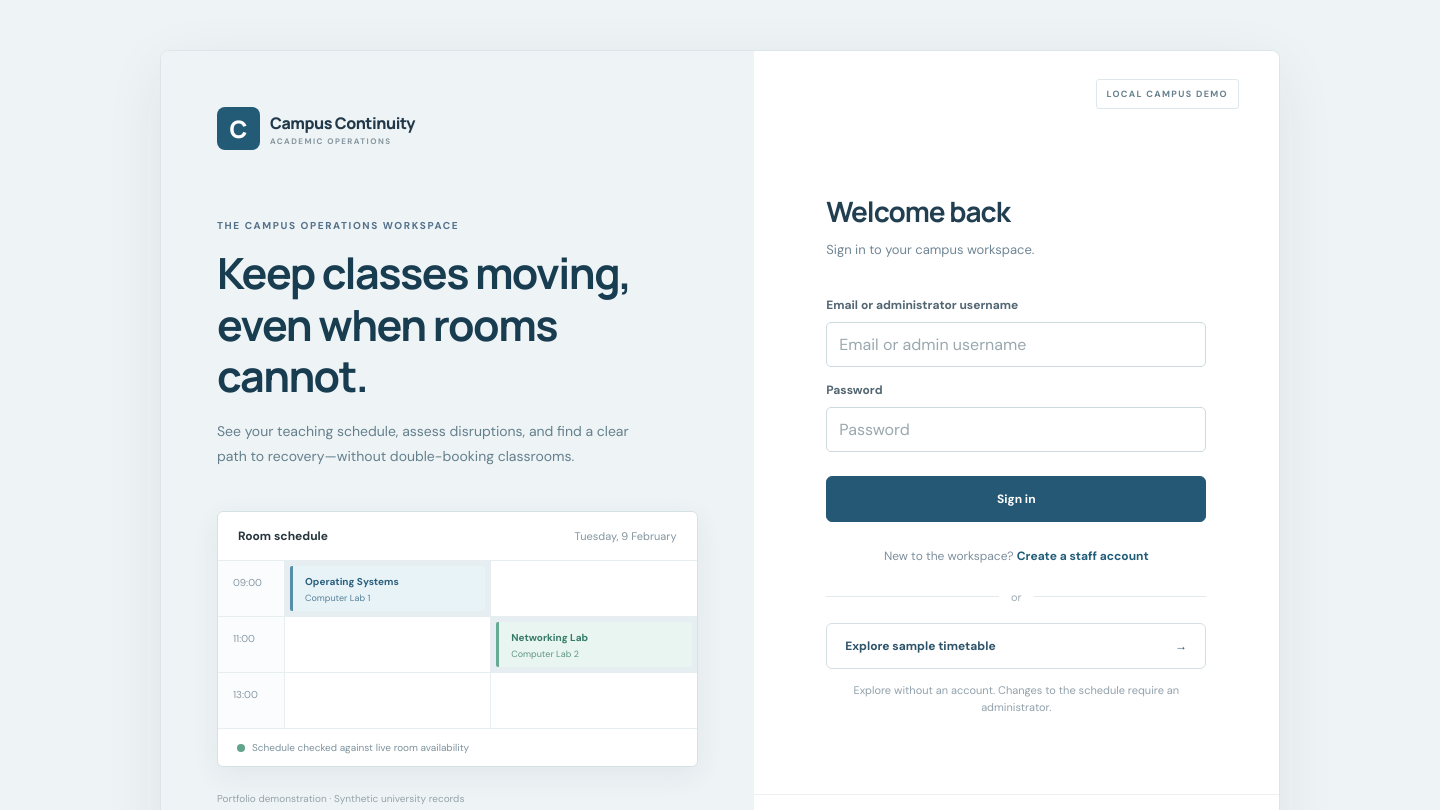
redesigned campus portal › registers a staff account and visibly limits its privileges
Click the button "Create a staff account". click: (1083, 556)
box: [1017,544,1149,568]
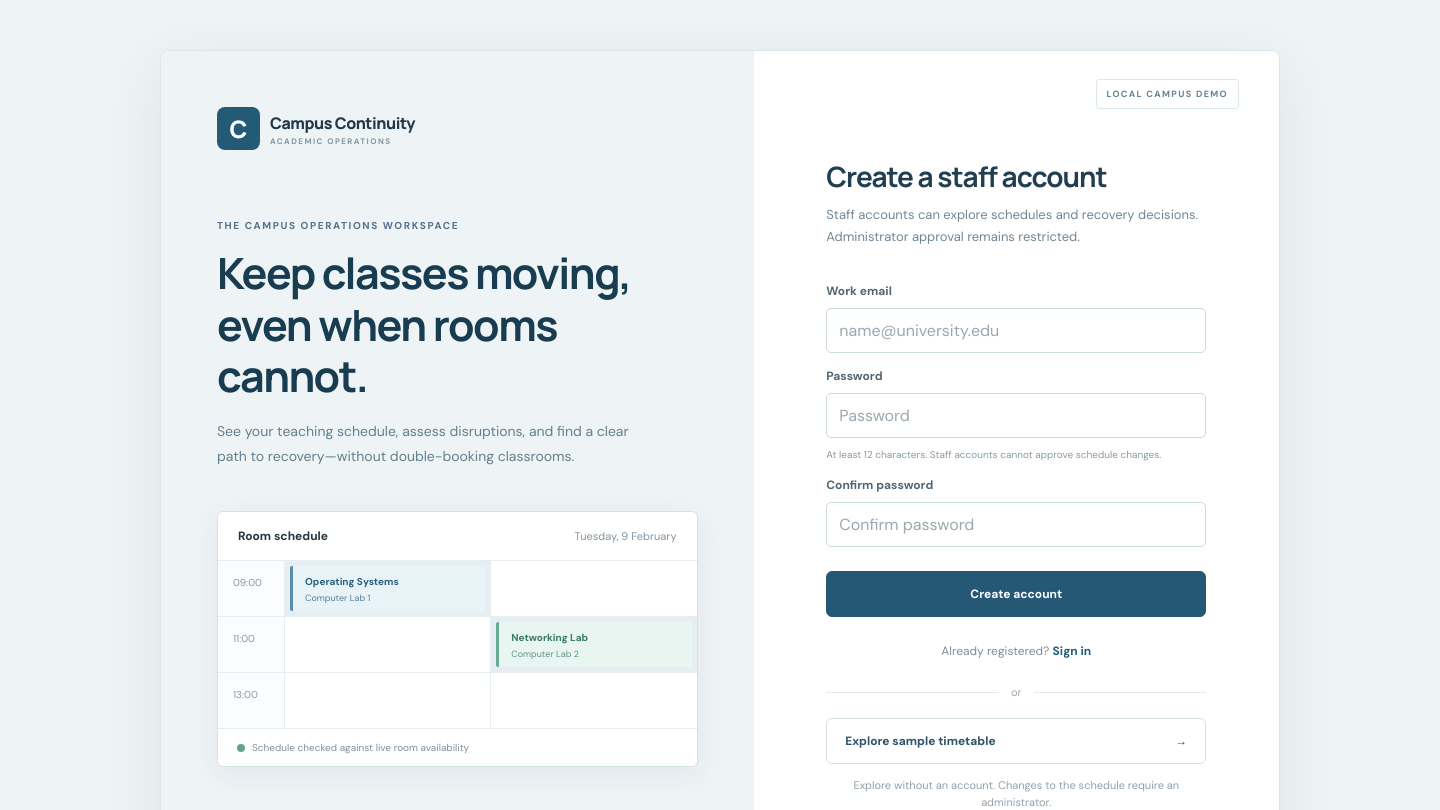
Type "student@example.edu" into the field with placeholder "name@university.edu". click: (1016, 331)
box: [826,308,1206,353]
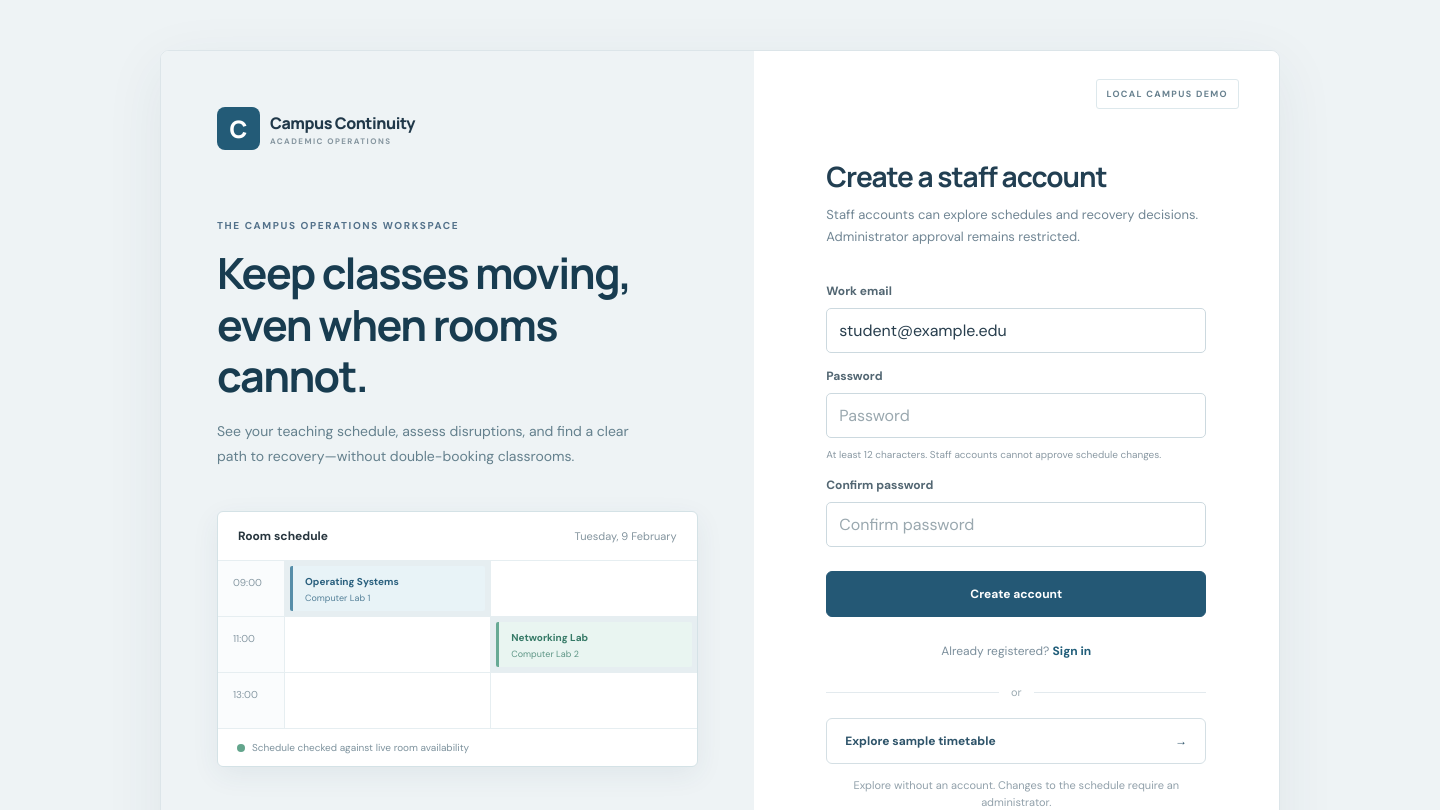
Type "demo-good-password-2027" into the password field with placeholder "Password". click: (1016, 416)
box: [826,393,1206,438]
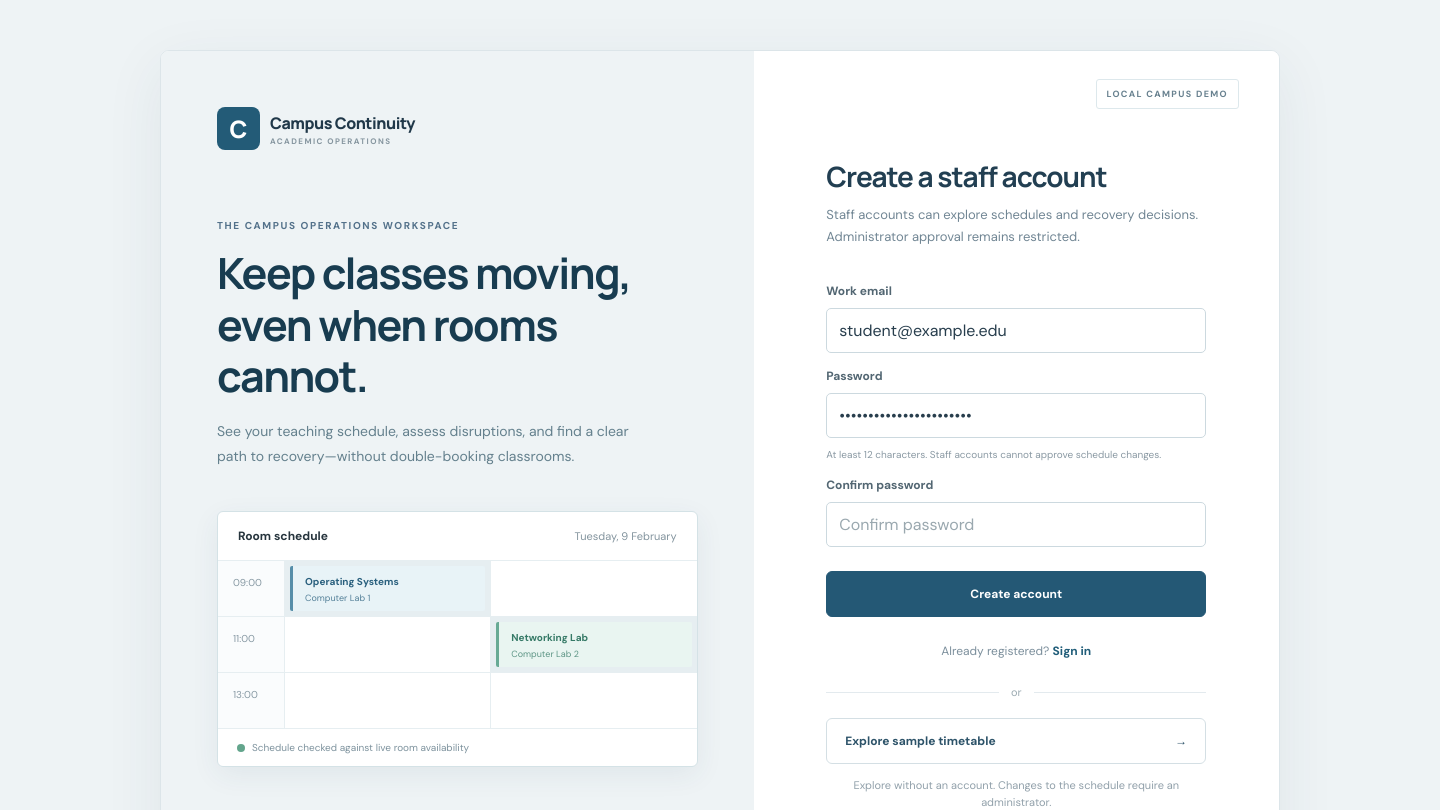
Type "demo-good-password-2027" into the password field with placeholder "Confirm password". click: (1016, 525)
box: [826,502,1206,547]
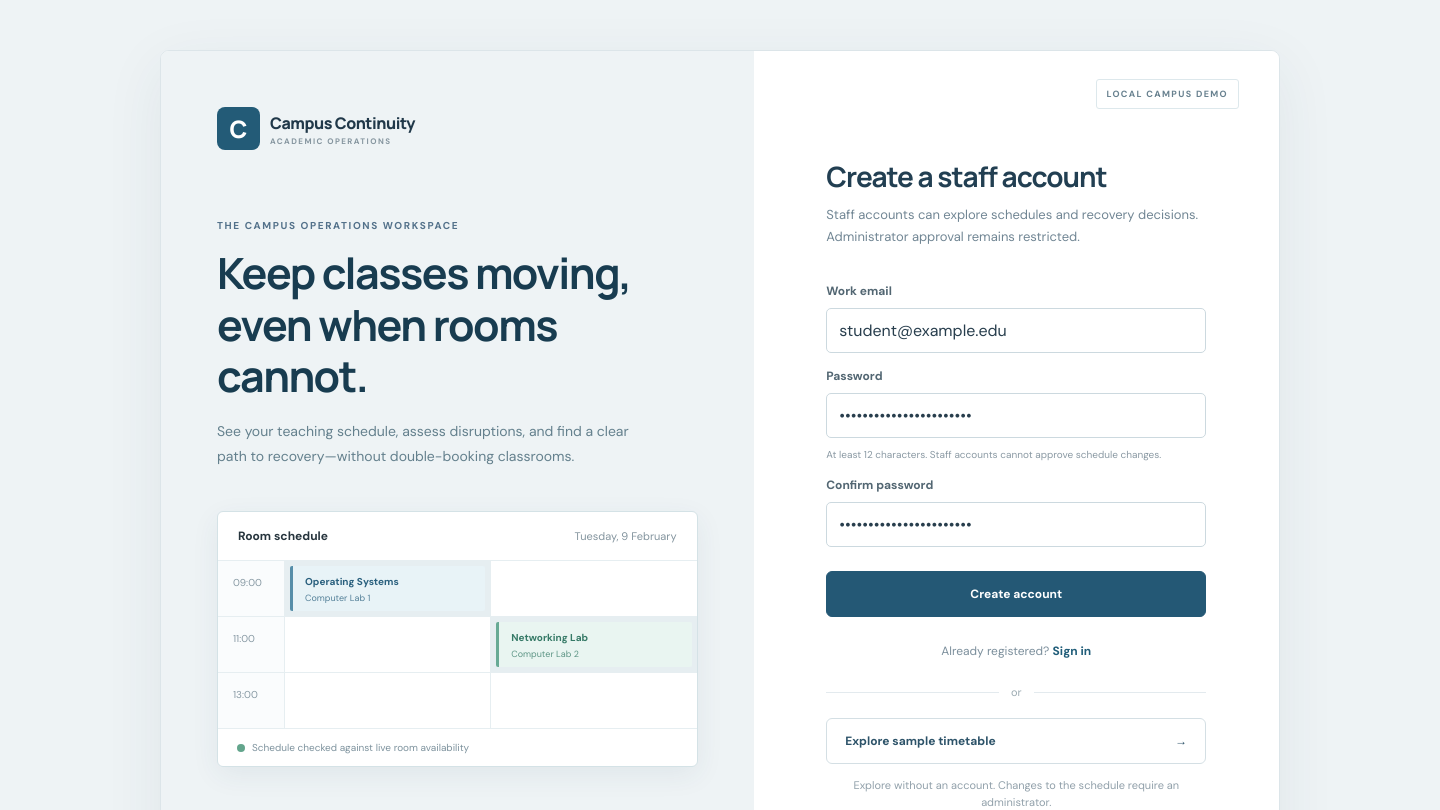
Click the button "Create account". click: (1016, 594)
box: [826,571,1206,617]
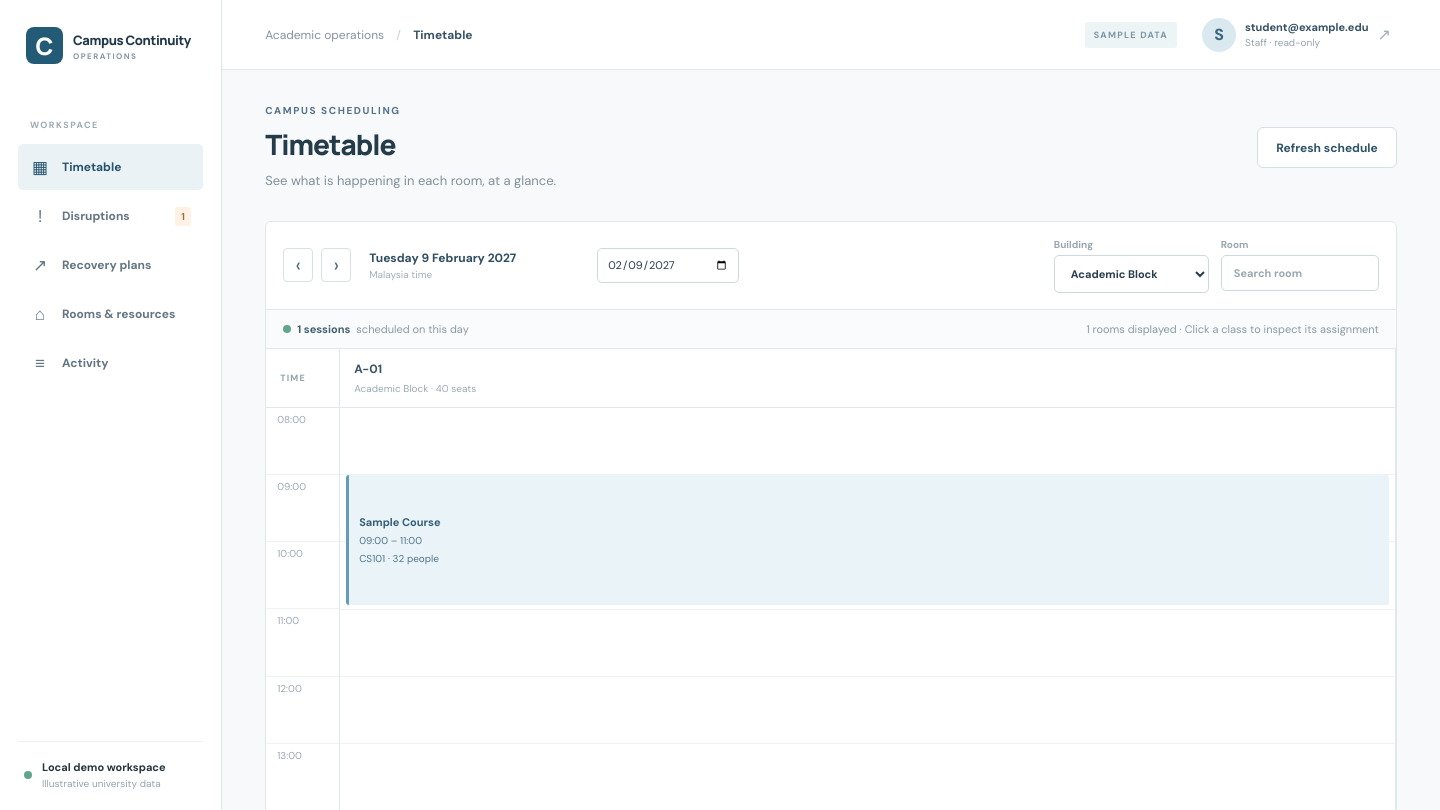
Check: the text "Staff · read-only" is shown, box [1245,36,1320,49]
Click the button "! Disruptions 1". click: (110, 216)
box: [18,193,203,239]
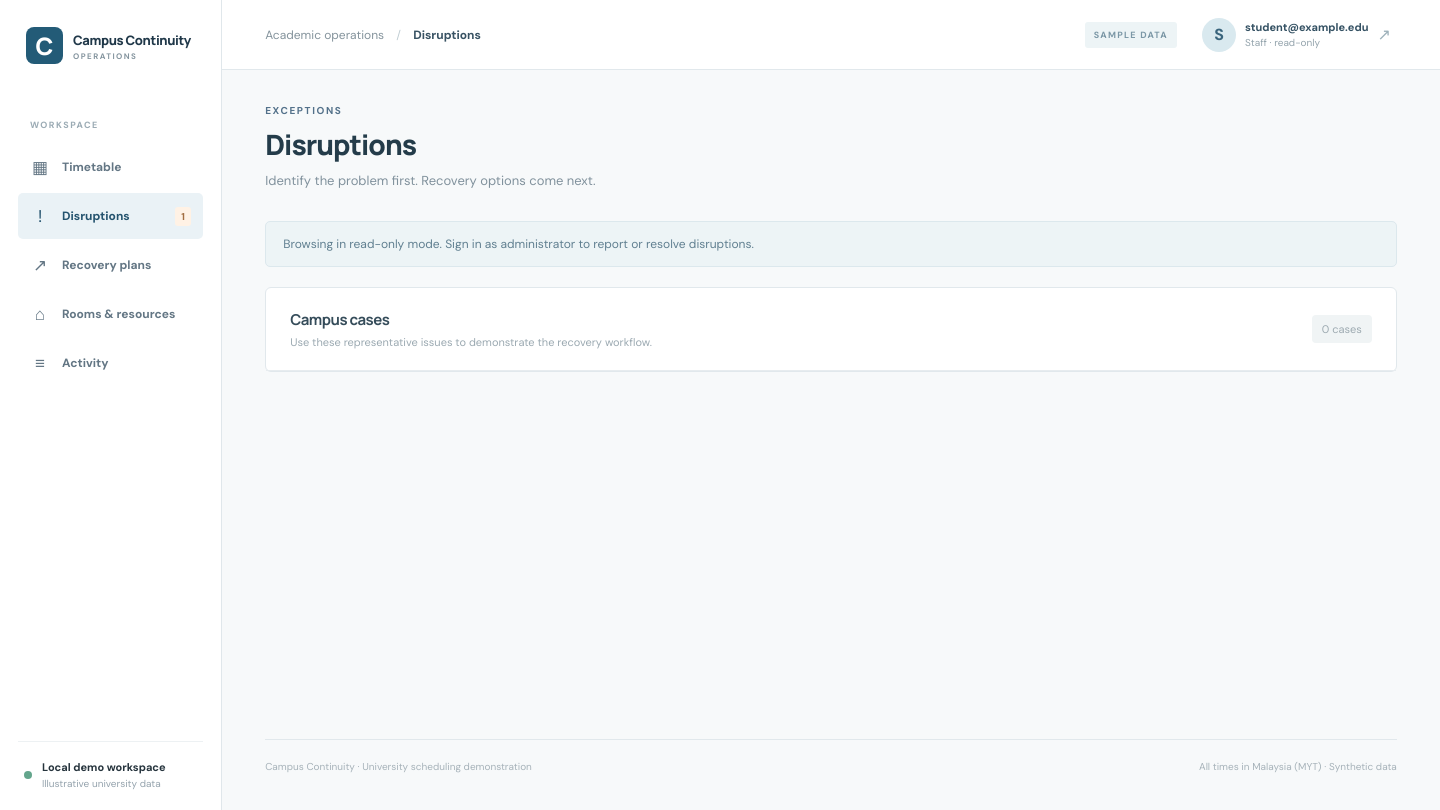
Check: the text "Browsing in read-only mode" is shown, box [283,236,754,252]
